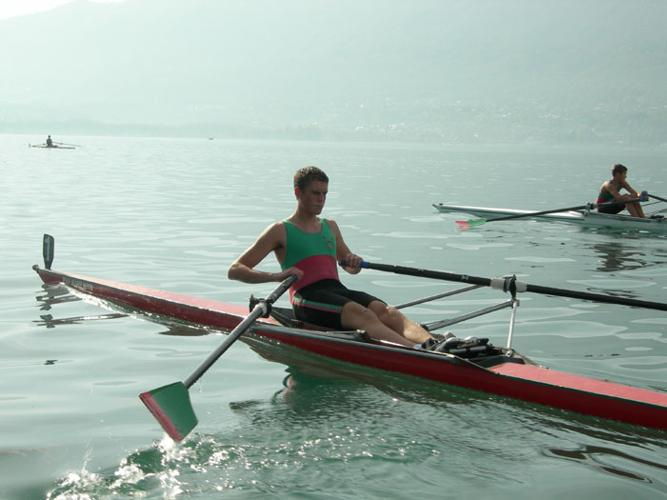person: (227, 167, 437, 353)
